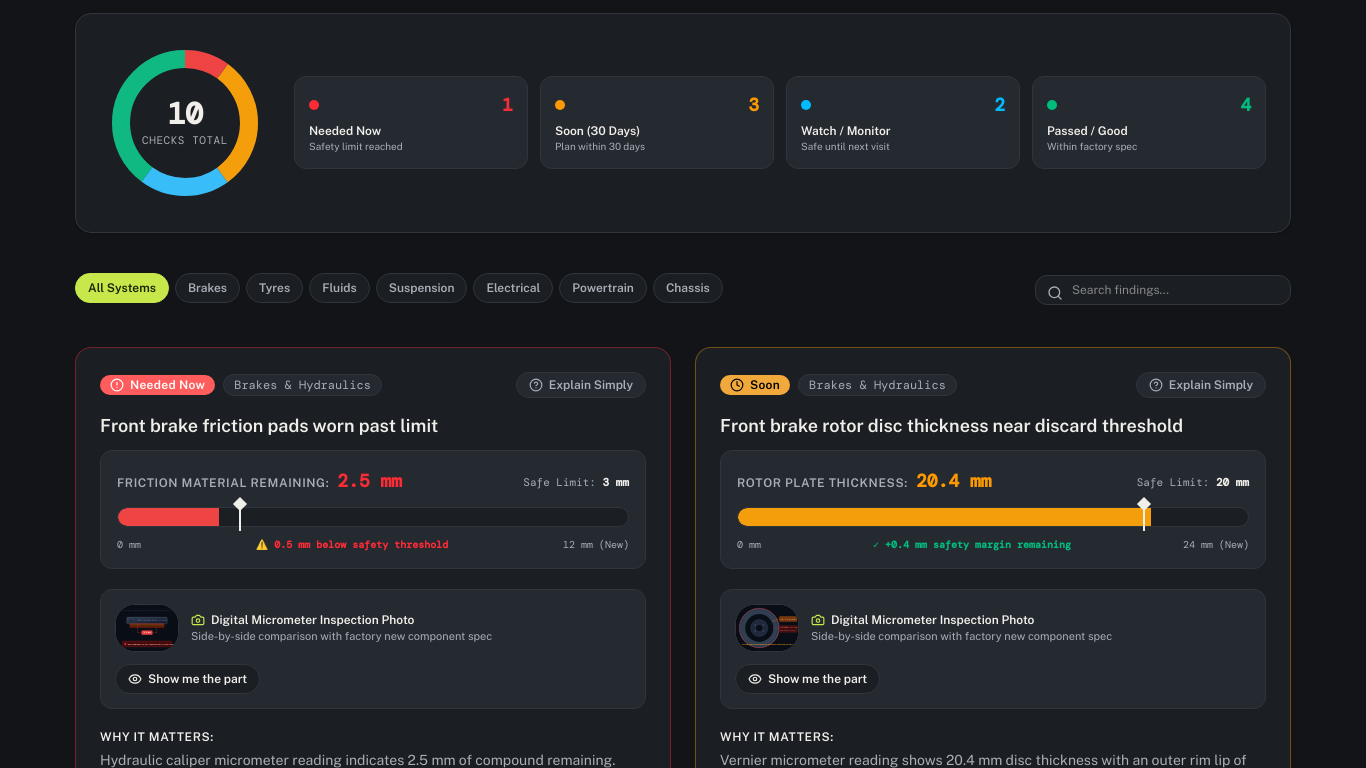
Test: Digital Proof Report (Feature 03) › toggles Explain Simply plain-language text on a finding card
(page scrolled)
# Click first Explain Simply button
Step 1. Click the 1st button "Explain Simply" → (581, 385), box [516, 372, 646, 398]
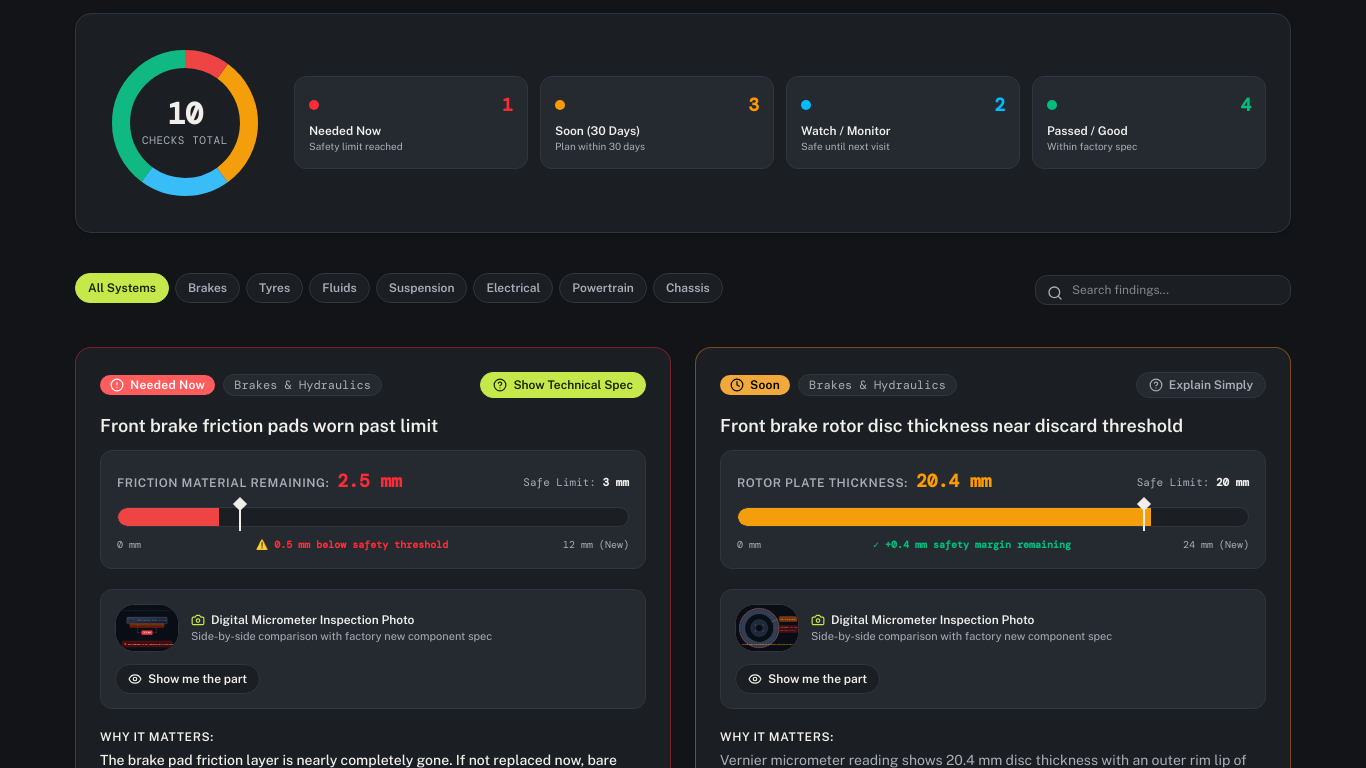
Expected: the button "Show Technical Spec" is shown, [480, 372, 646, 398]
